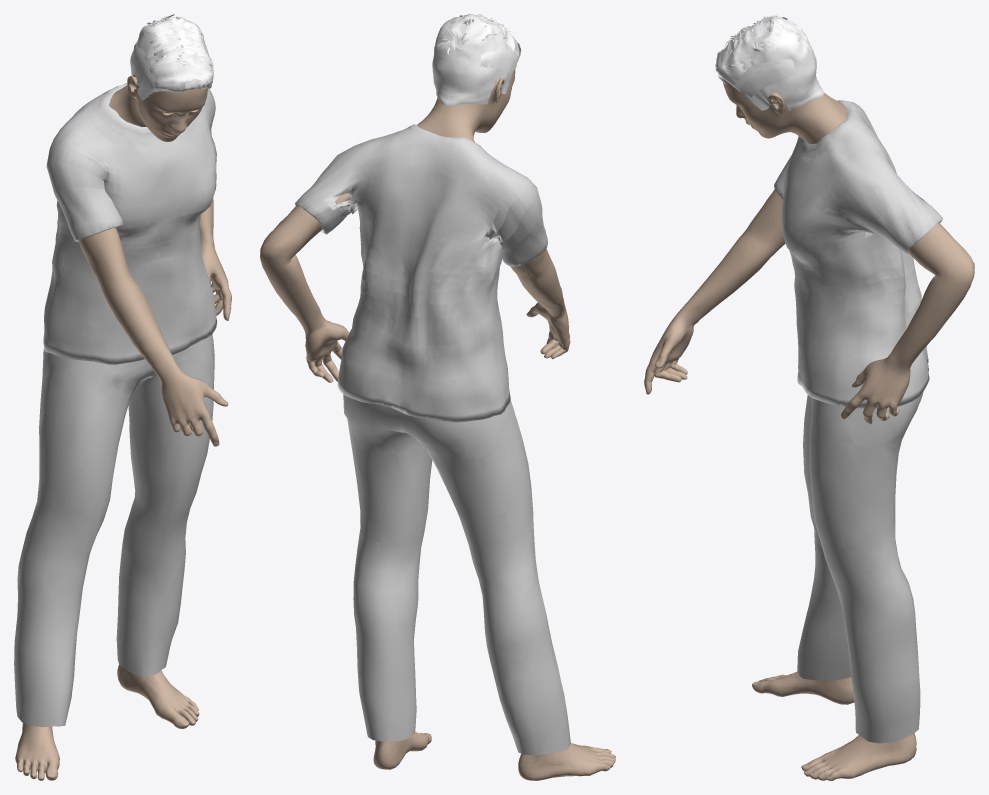
File: adult_table.glb
The picture shows the model from 3 angles, left to right: view 1: azimuth 30°, elevation 25°; view 2: azimuth 150°, elevation 25°; view 3: azimuth 270°, elevation 25°; orthographic projection. The views are drawn at different scales.
Parts seen in each view (by area): view 1: male_casualsuit06Mesh, adult_testMesh, short01Mesh; view 2: male_casualsuit06Mesh, adult_testMesh, short01Mesh; view 3: male_casualsuit06Mesh, adult_testMesh, short01Mesh.
Boxes of the visible parts, x1,y1,x2,y2 form: male_casualsuit06Mesh: [14, 83, 217, 727]; adult_testMesh: [15, 75, 231, 780]; short01Mesh: [130, 14, 213, 100]; male_casualsuit06Mesh: [295, 124, 570, 754]; adult_testMesh: [260, 69, 615, 780]; short01Mesh: [432, 14, 520, 106]; male_casualsuit06Mesh: [774, 100, 942, 743]; adult_testMesh: [644, 78, 974, 780]; short01Mesh: [715, 14, 824, 110].
Bounding box in the file's own units: 0.6262 × 1.63 × 0.6616.
